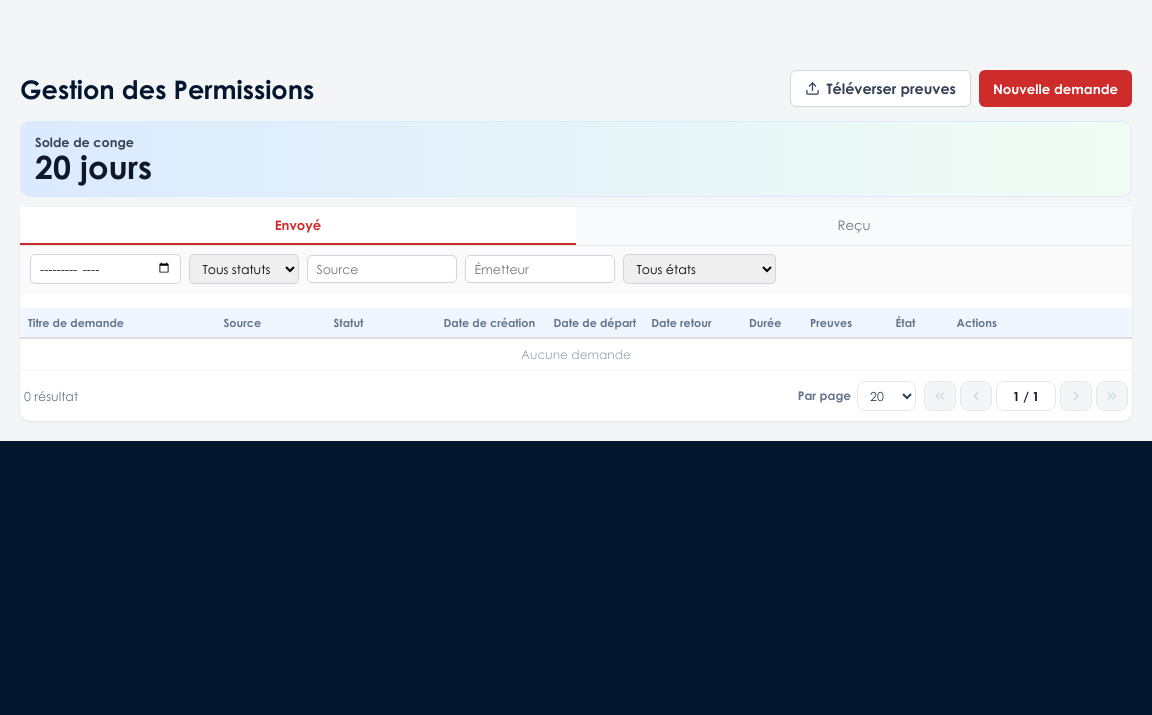
Test: PermissionsPage › calcule la duree ouvrable pour non-conventionnelle
Click the button "Nouvelle demande". click: (1056, 88)
box: [979,70,1132,107]
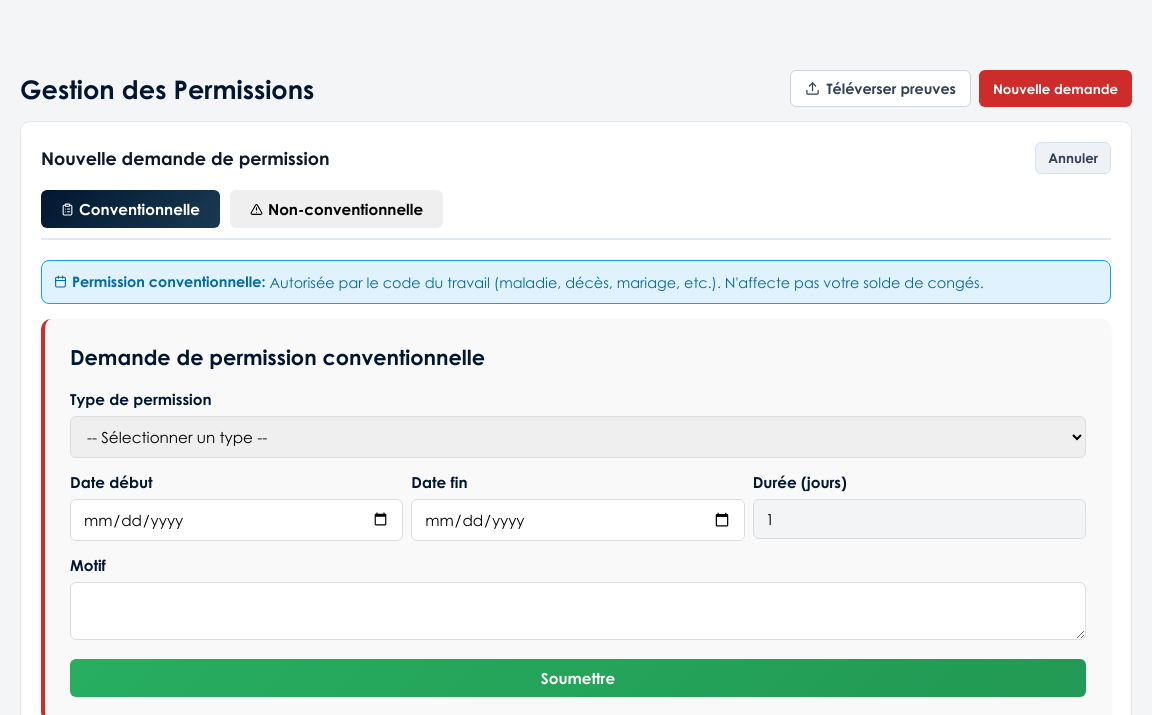
Click the button "Non-conventionnelle". click: (336, 209)
box: [230,190,443,228]
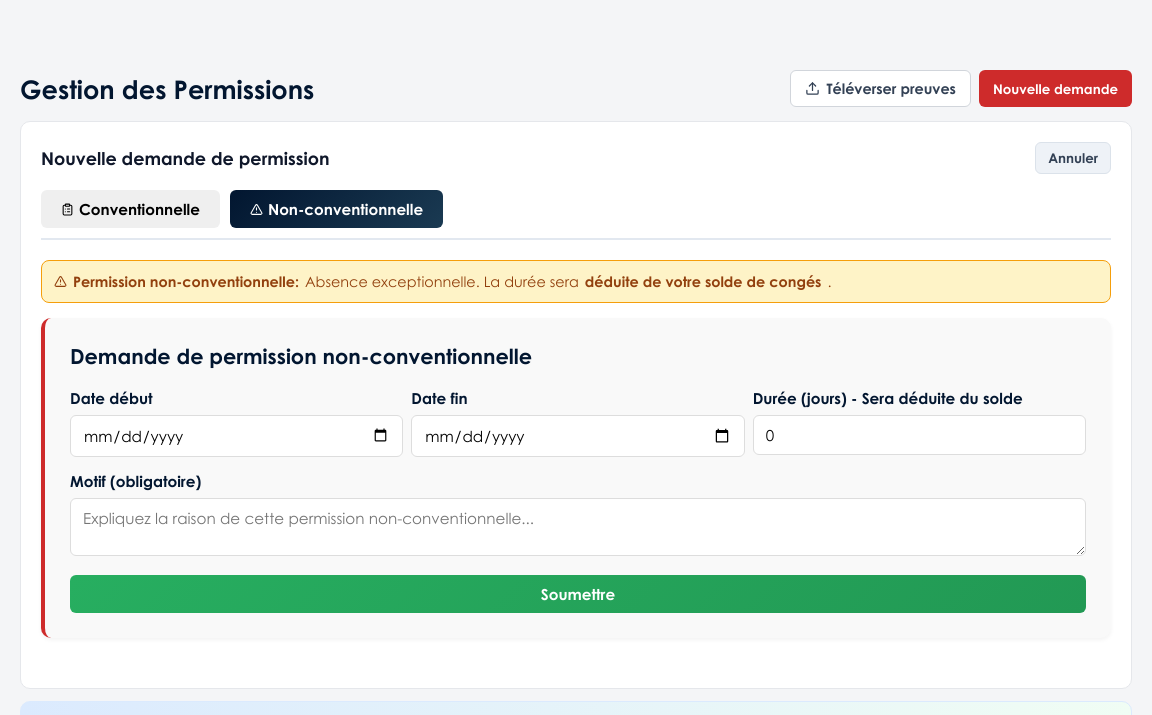
Type "2026-04-06" into the date field below "Date début". click: (237, 436)
box: [70,415,403,457]
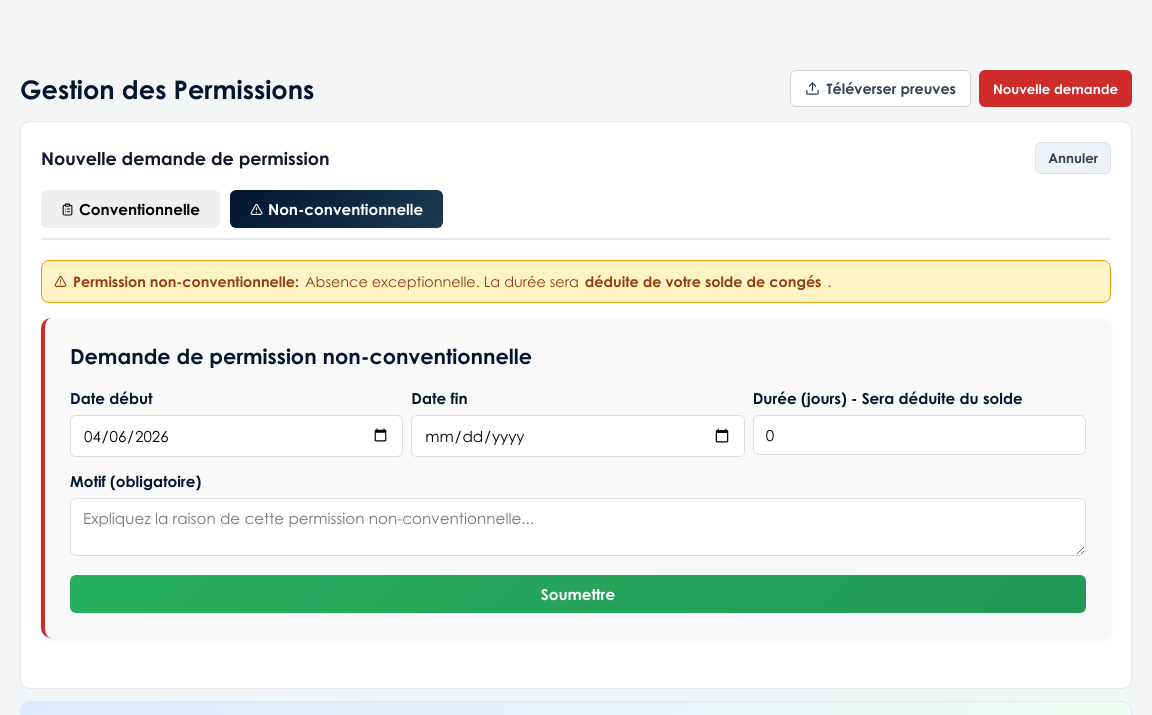
Type "2026-04-12" into the date field below "Date fin". click: (578, 436)
box: [411,415,745,457]
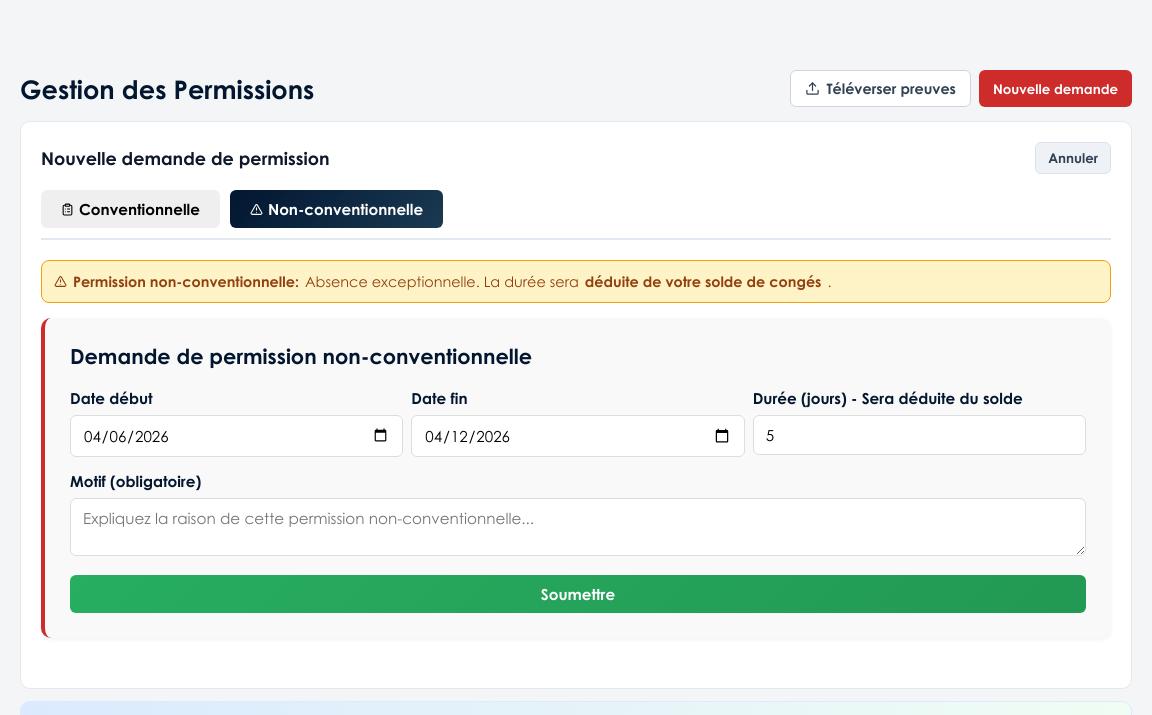
Expected: the number field holds "5", [753,415,1086,455]
